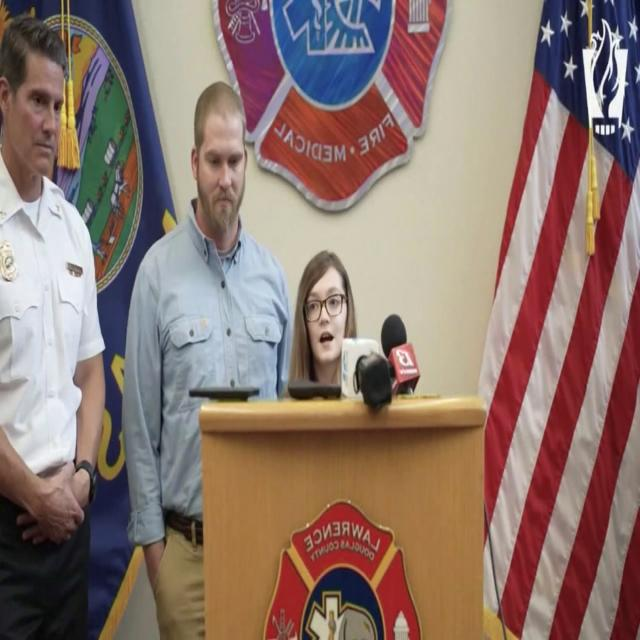adult: (124, 65, 290, 640), (0, 15, 103, 640), (287, 238, 356, 407)
